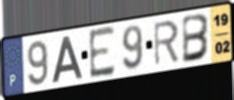9: (25, 39, 50, 87), (121, 23, 144, 73)
A: (51, 34, 84, 85)
B: (181, 13, 212, 66)
E: (87, 24, 116, 82)
R: (152, 18, 181, 68)
